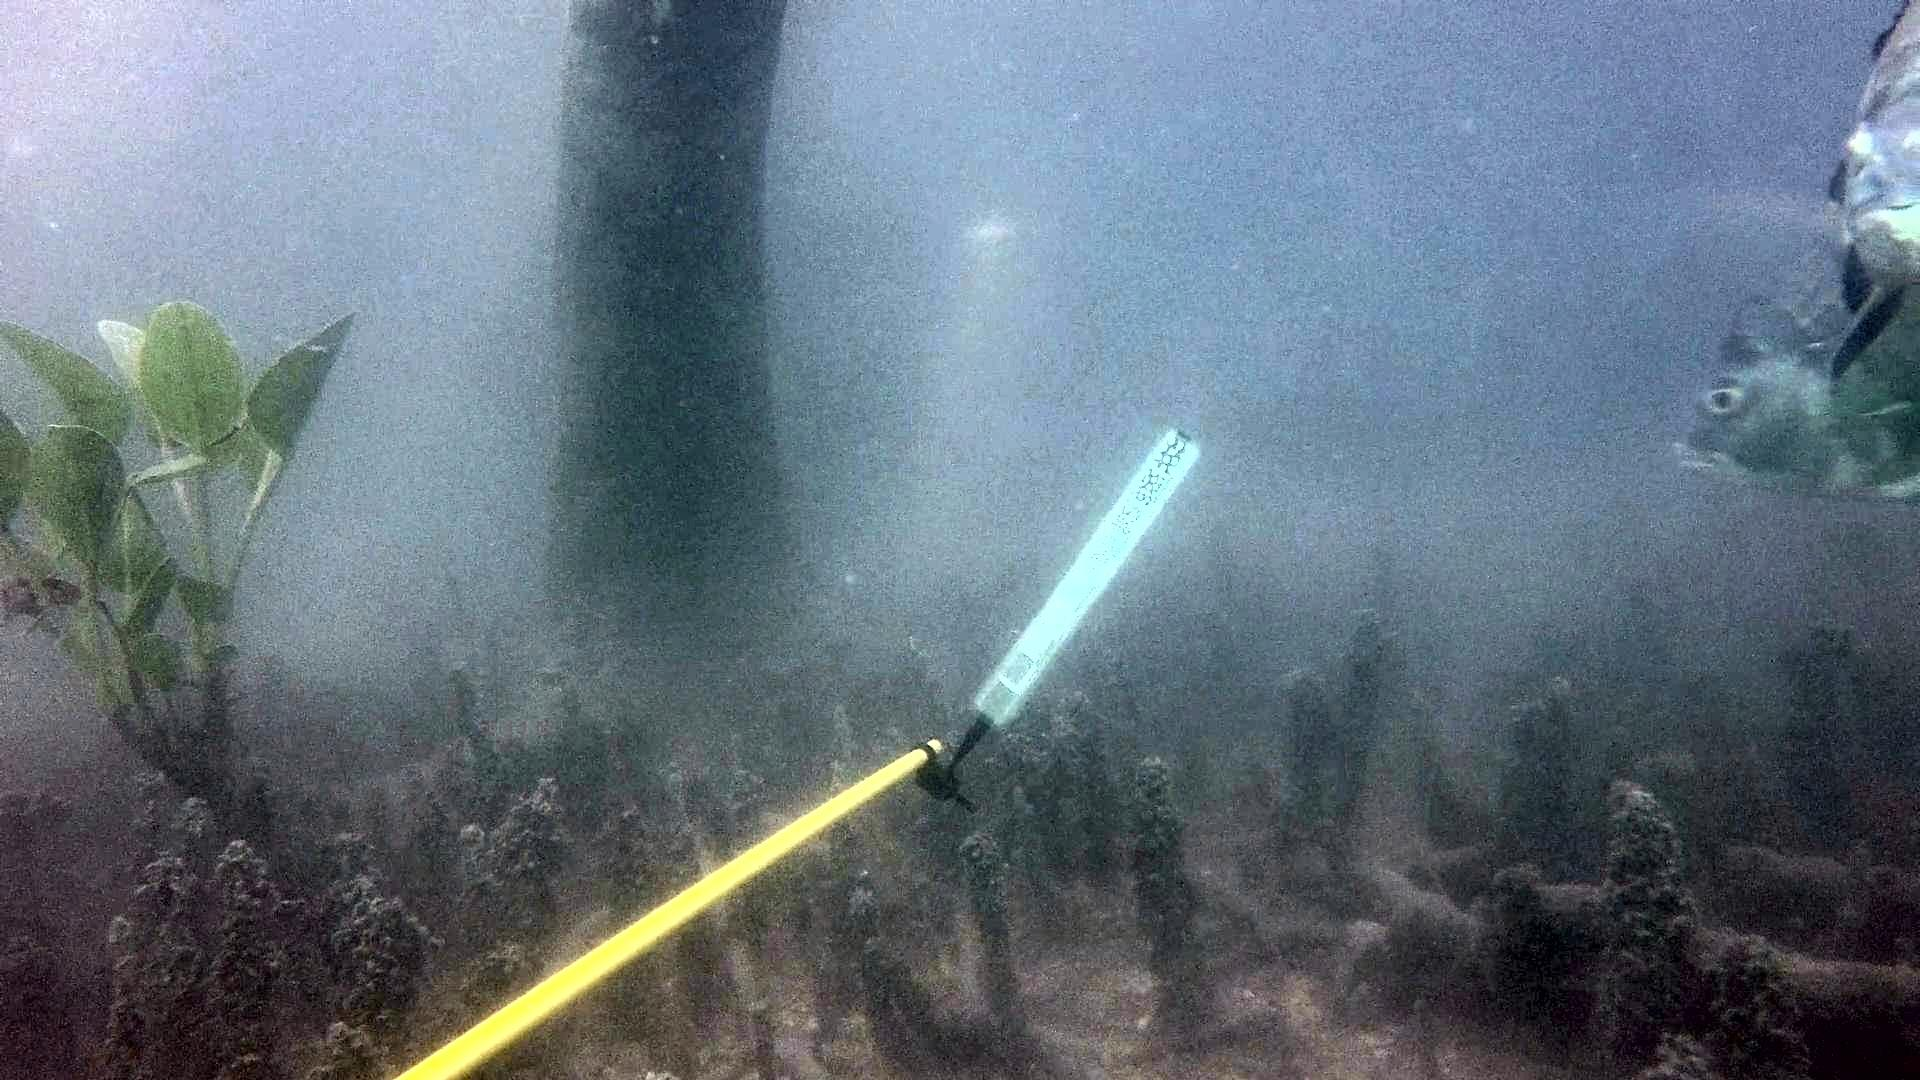acanthopagrus palmaris: (1626, 0, 1920, 391), (1653, 231, 1920, 531)
